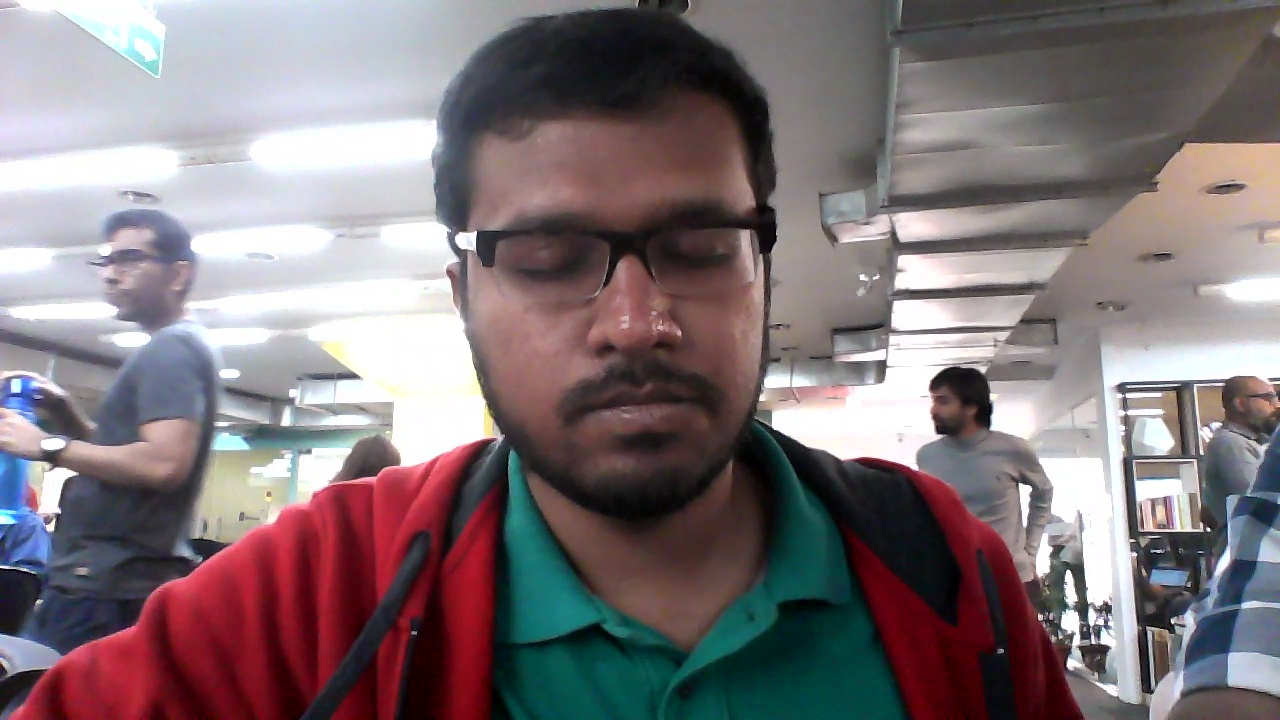closed: (433, 8, 778, 530)
